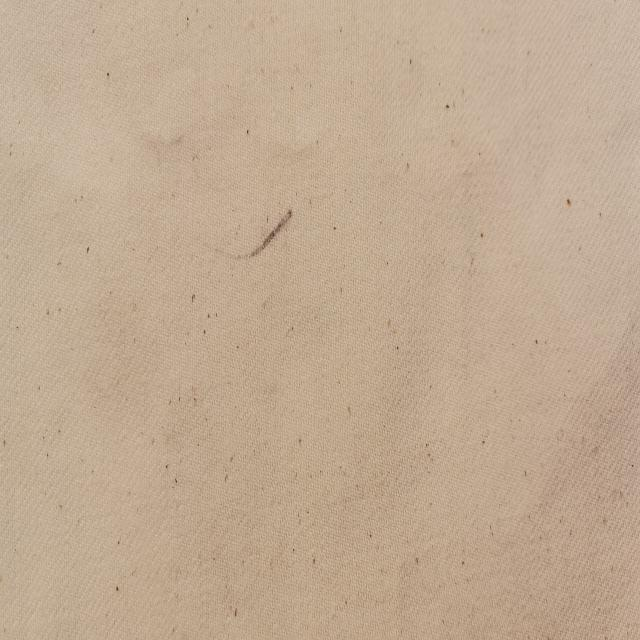taaaches: (227, 188, 298, 272)
